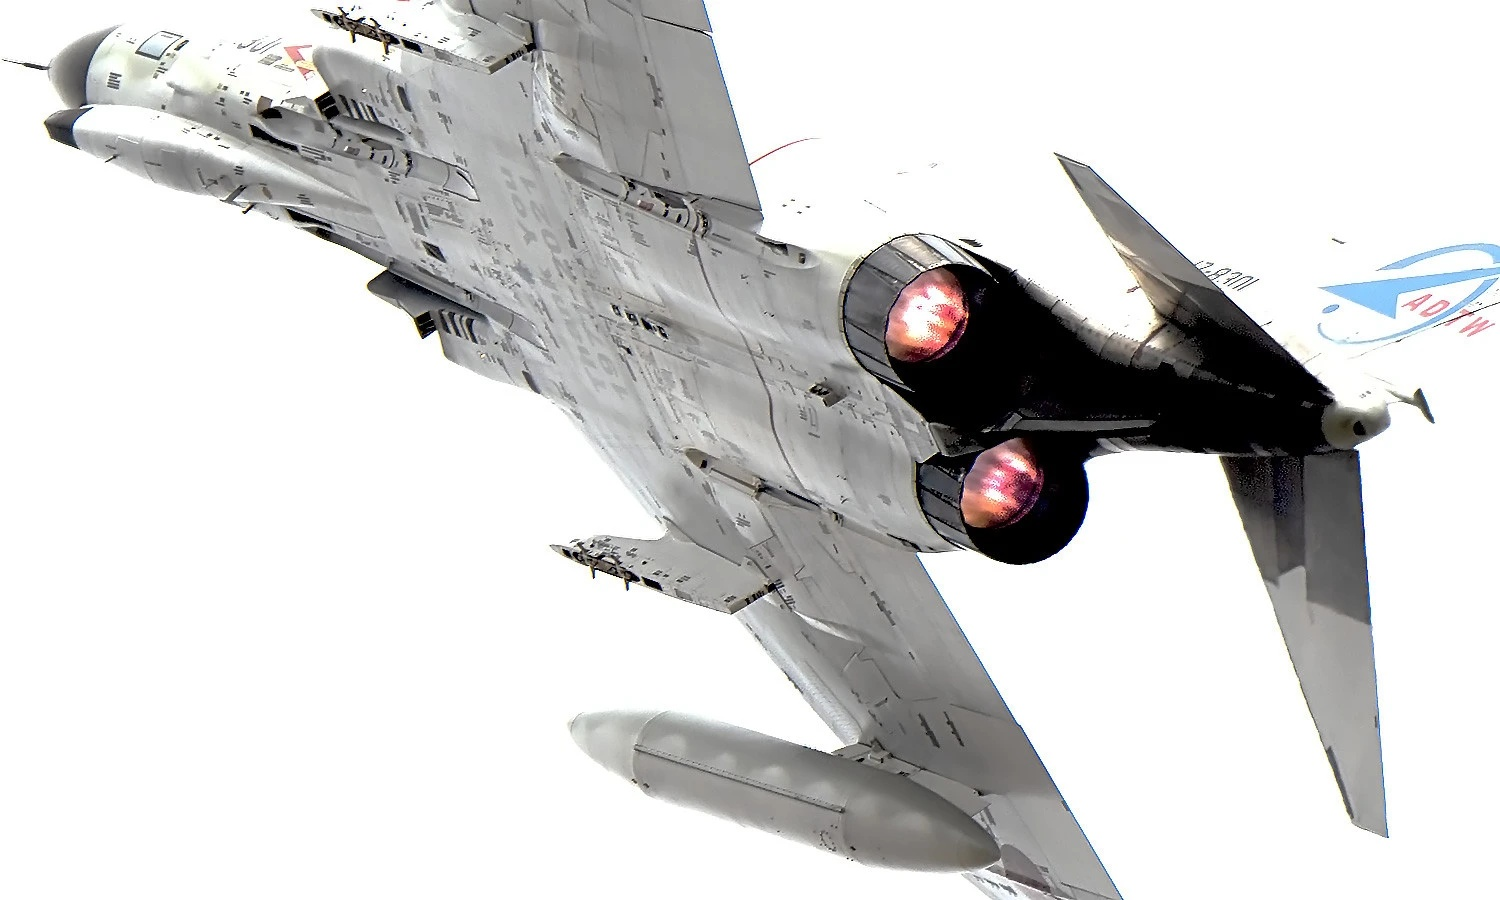F4: (1, 1, 1500, 900)
